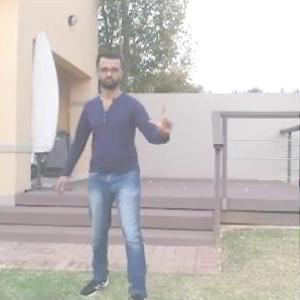land_hand: (147, 103, 179, 143)
